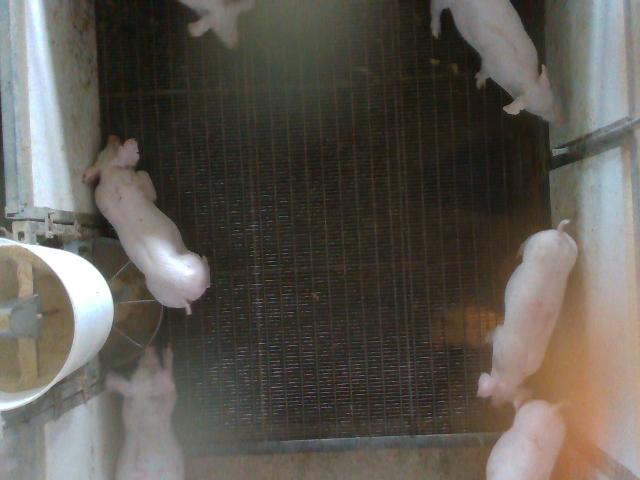pig-4: (479, 220, 578, 406)
